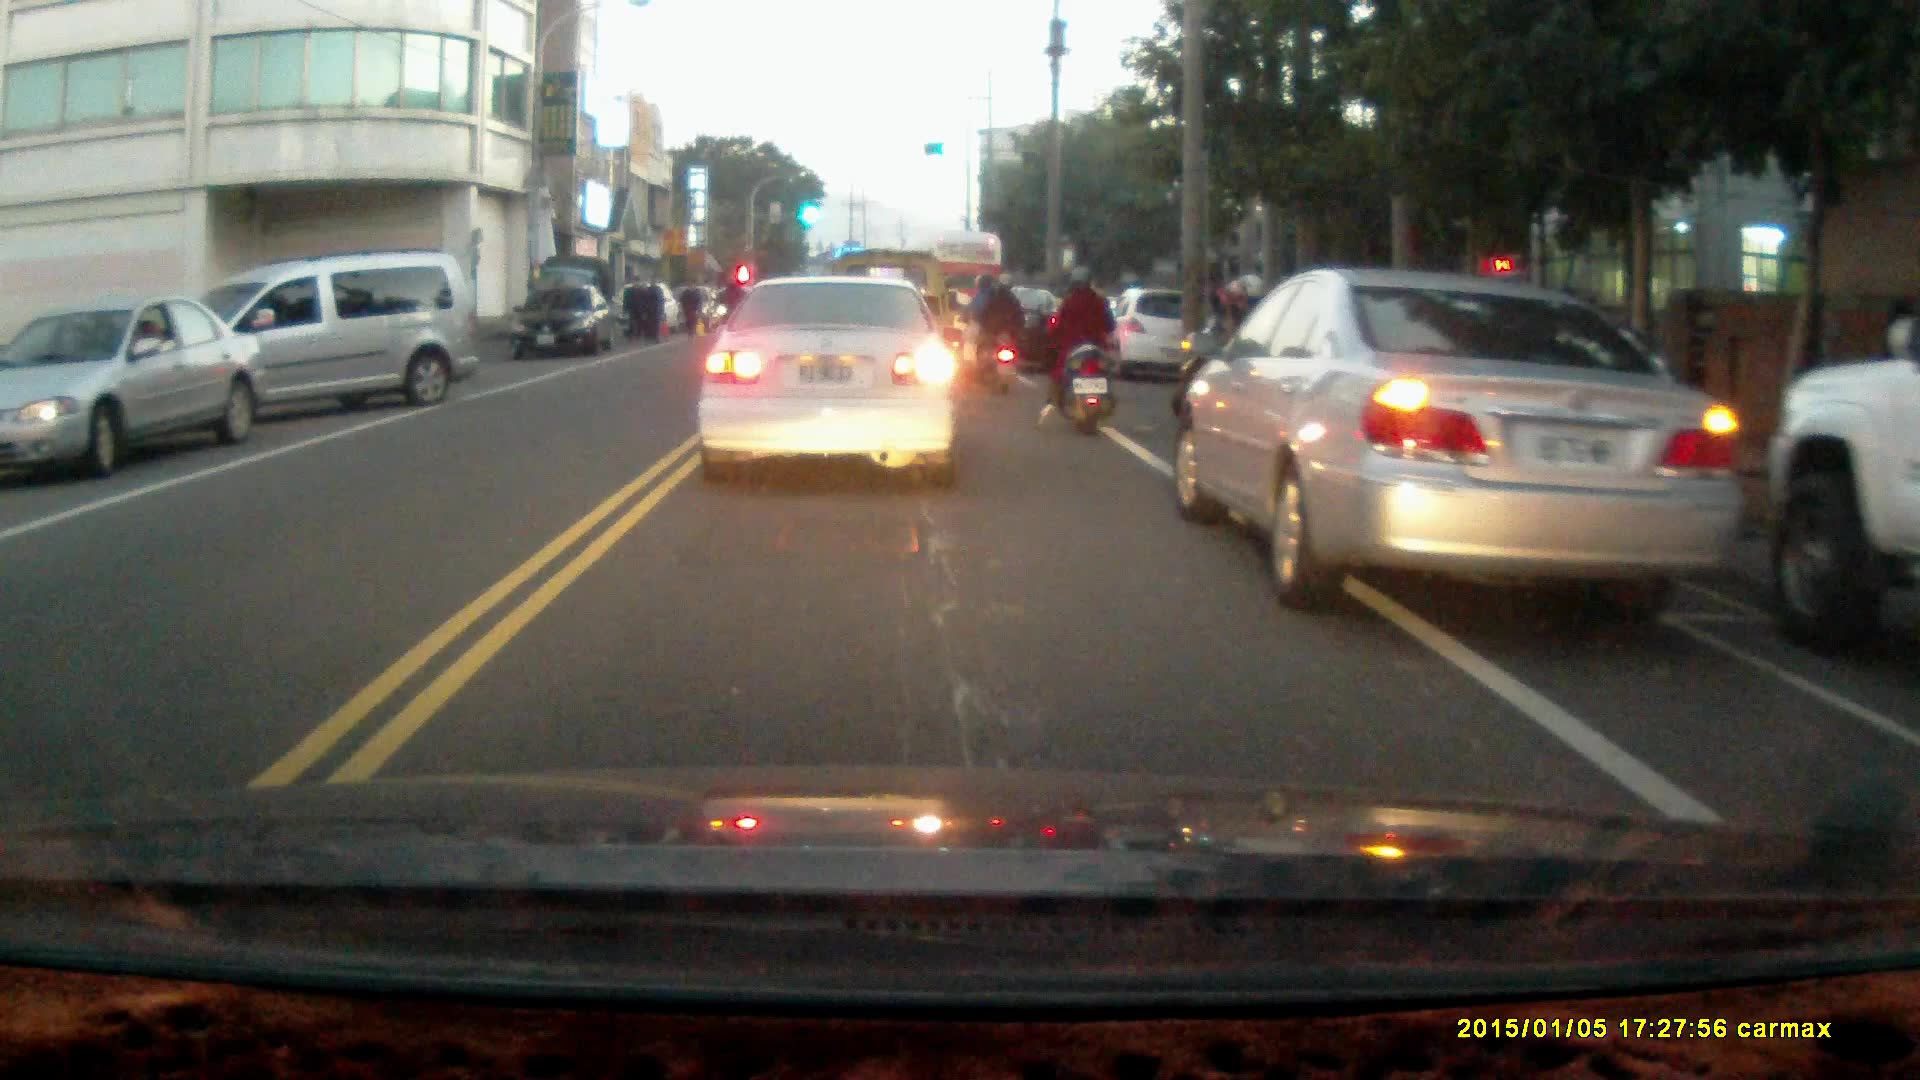pedestrian: (619, 271, 645, 341), (675, 273, 703, 337), (640, 269, 661, 346)
rider: (1171, 274, 1296, 442), (1029, 263, 1120, 436), (956, 268, 1025, 393), (710, 271, 753, 352)
vehicle: (1169, 261, 1741, 613), (148, 251, 482, 434), (694, 273, 963, 486), (1761, 302, 1920, 656), (1, 295, 265, 481), (1108, 288, 1190, 386), (513, 280, 616, 358)
